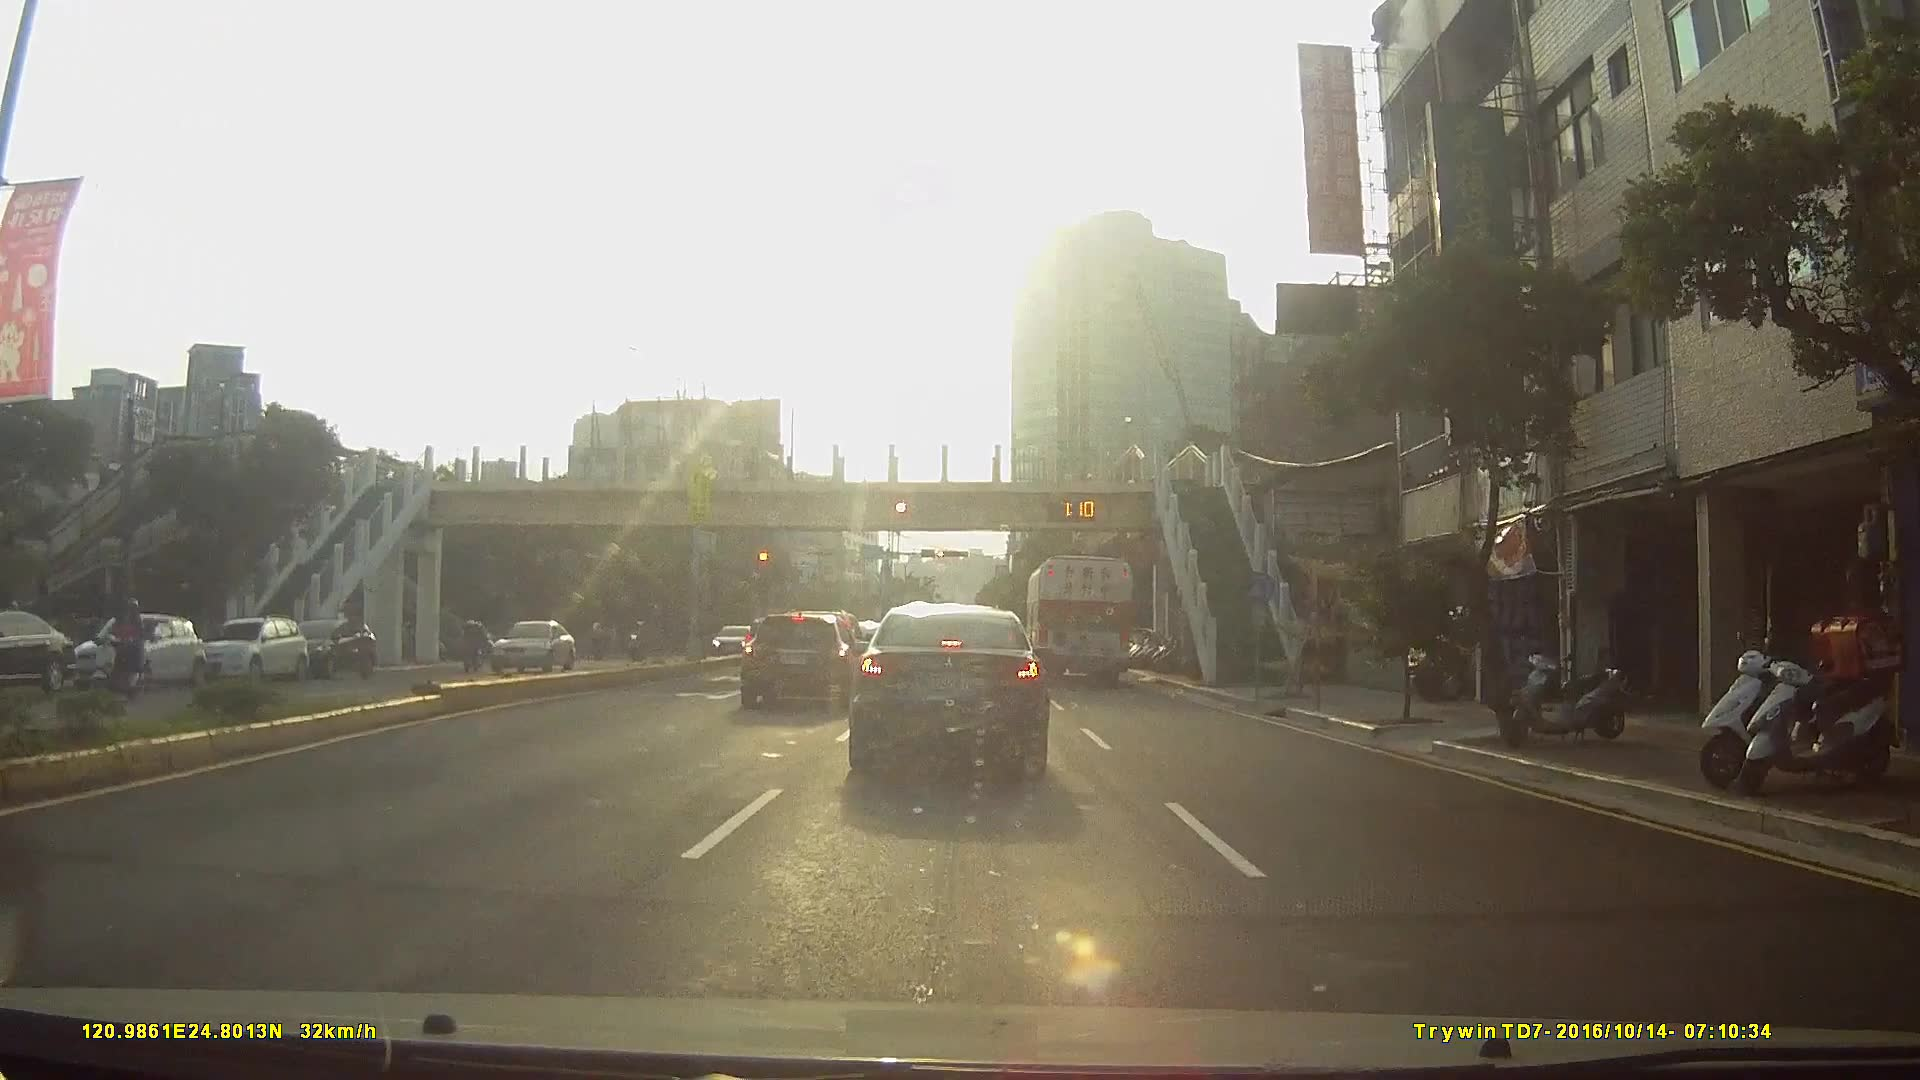rider: (75, 596, 153, 706)
vehicle: (844, 598, 1052, 777), (1024, 548, 1136, 682), (734, 604, 863, 706), (64, 610, 200, 688), (189, 612, 306, 680), (0, 607, 67, 691), (284, 616, 376, 677), (481, 618, 570, 675), (709, 623, 751, 657)
